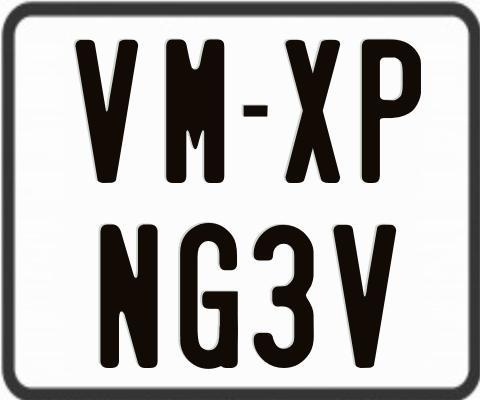3: (254, 223, 319, 370)
G: (177, 223, 241, 371)
M: (166, 36, 229, 185)
N: (99, 223, 159, 372)
P: (360, 38, 423, 188)
V: (332, 225, 401, 374), (75, 39, 139, 187)
X: (285, 37, 344, 180)
